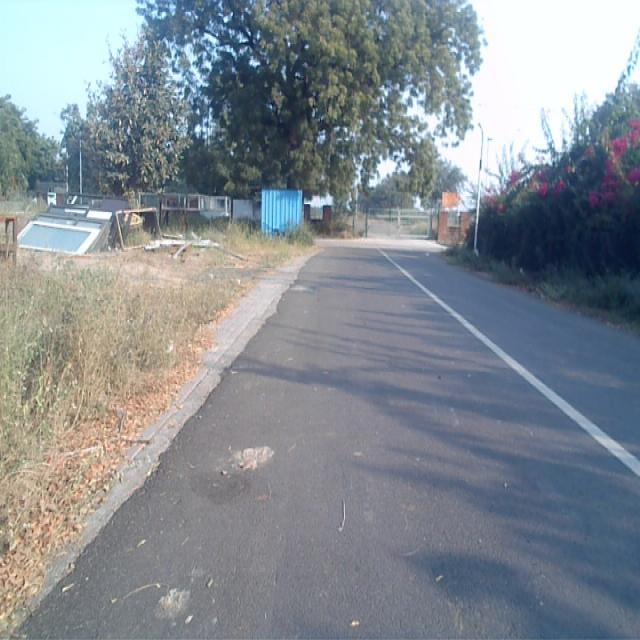lane: (26, 247, 640, 640)
